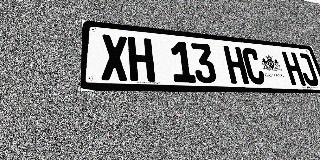1: (169, 41, 196, 83)
3: (190, 43, 217, 83)
C: (241, 47, 267, 85)
H: (127, 37, 155, 82), (223, 46, 249, 84), (281, 51, 306, 86)
J: (295, 53, 320, 86)
X: (101, 34, 129, 81)
